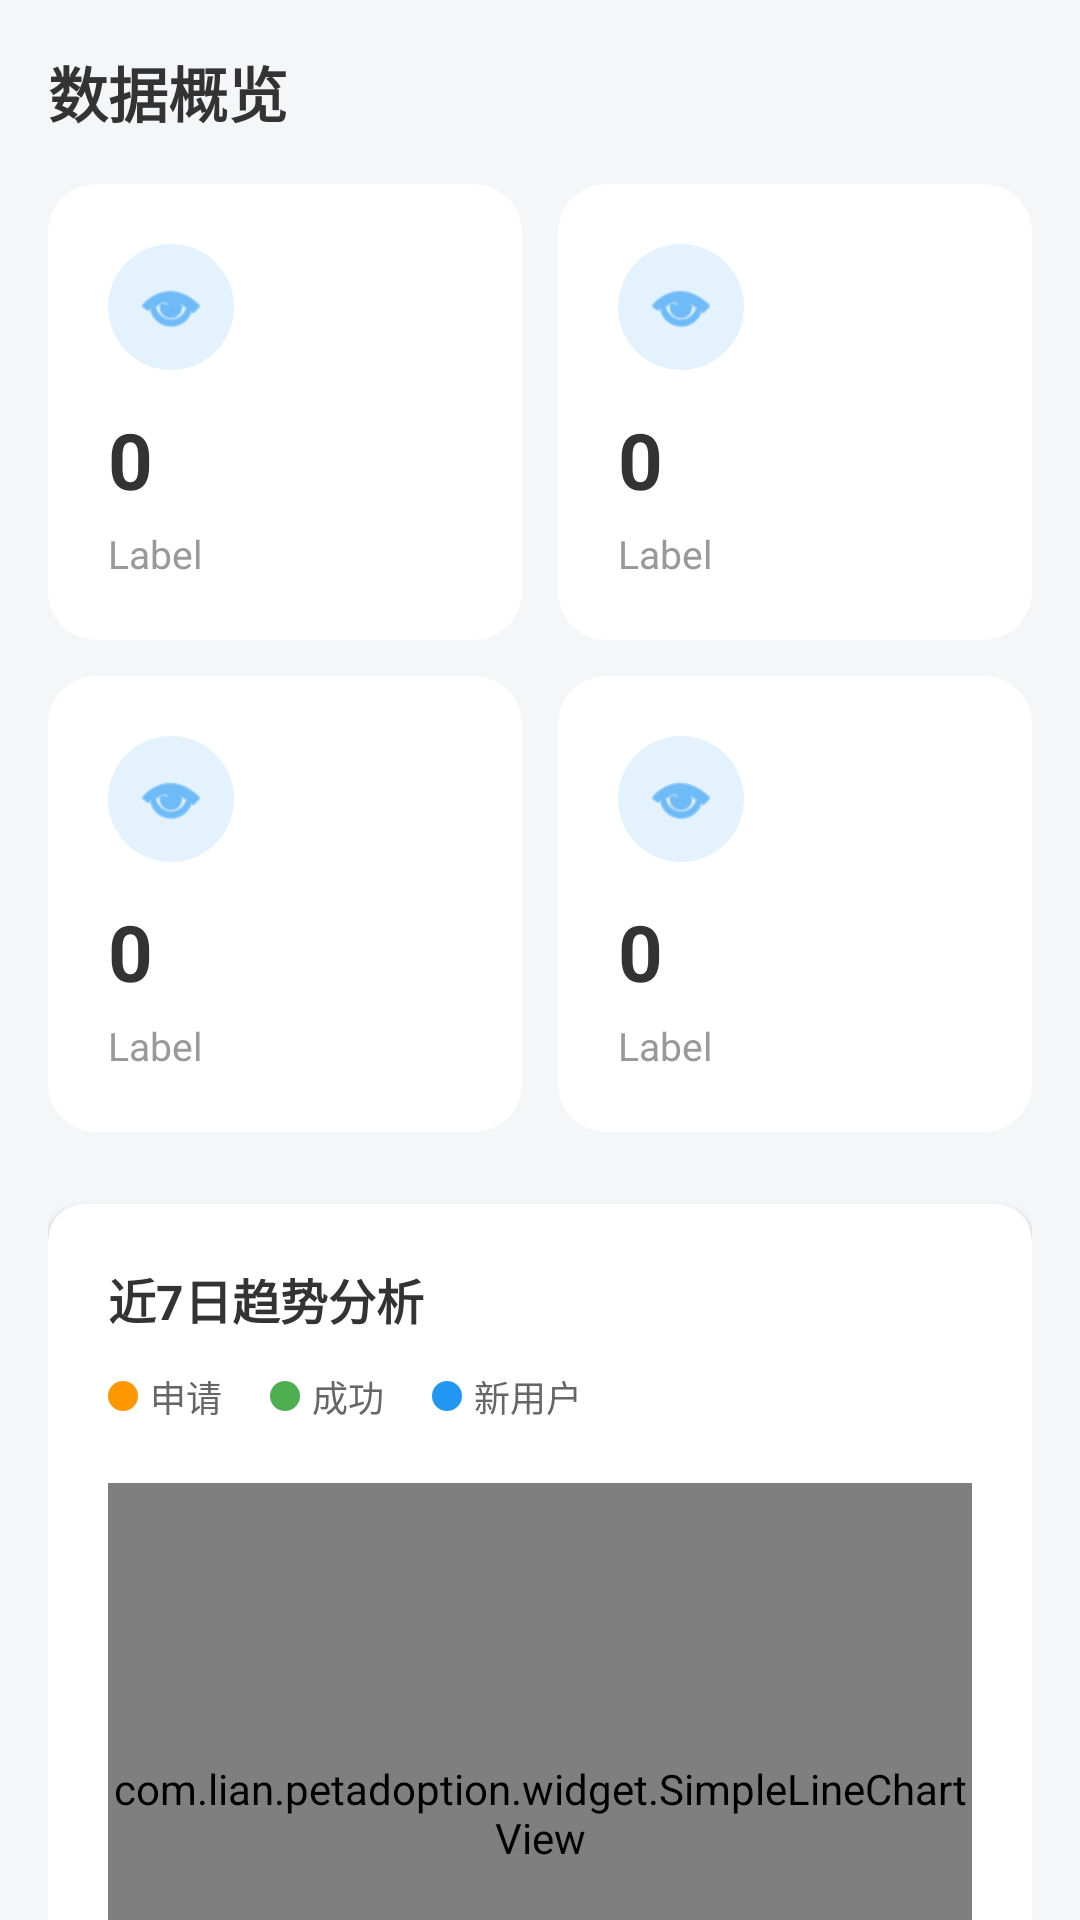

Icons on this 1080px×1920px Android screen, each with its box as (x1, y1, x2, y2):
view: (108, 244, 234, 370), (618, 244, 744, 370), (108, 736, 234, 862), (618, 736, 744, 862)
